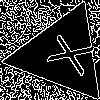X: (37, 29, 96, 77)
